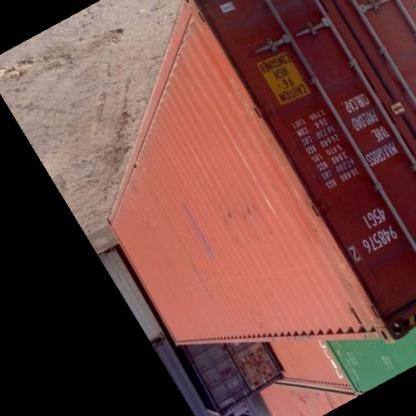Damage: (212, 202, 257, 230), (186, 258, 208, 306), (188, 202, 204, 250)
